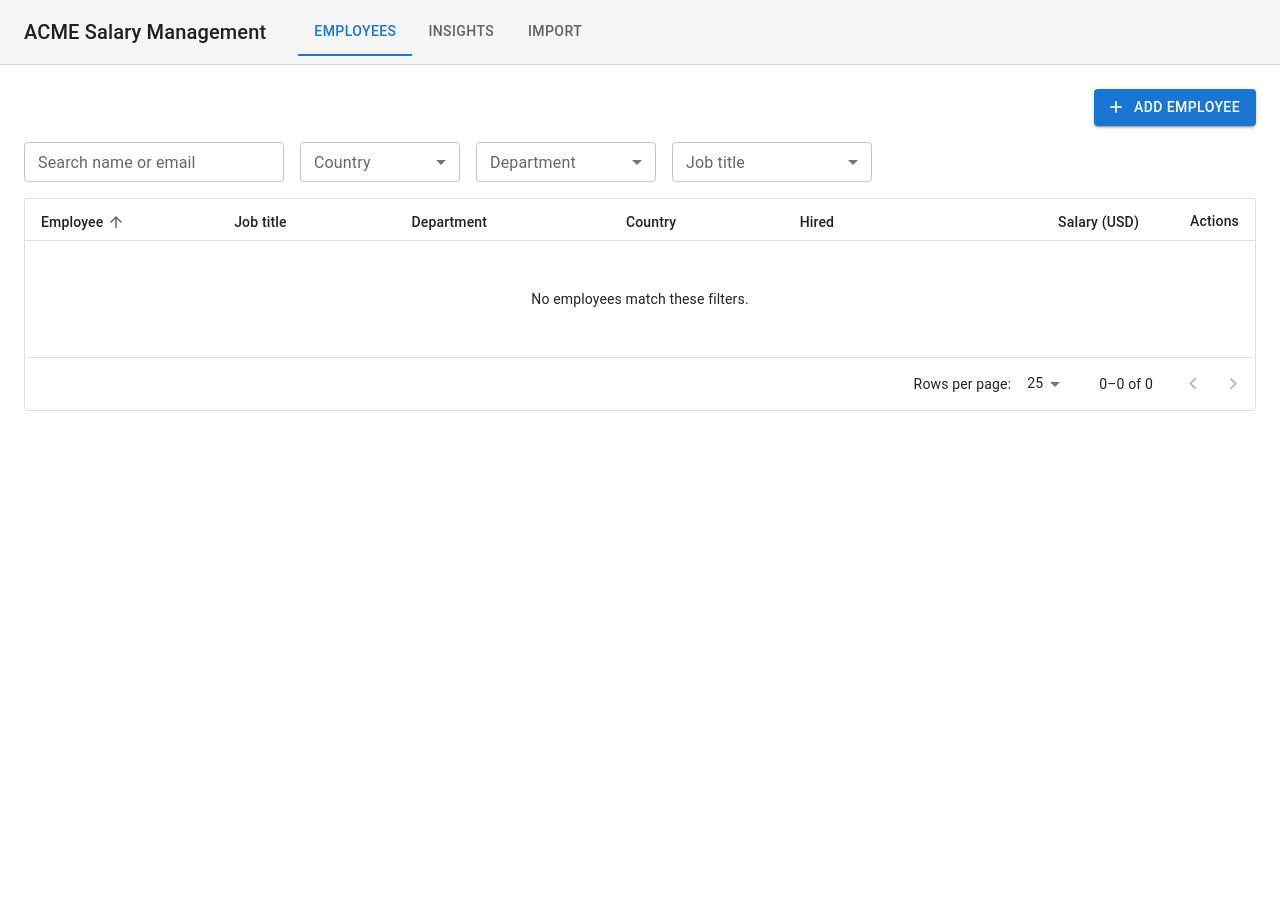
Test: App › navigates to the insights page from the tabs
Click the tab "Insights" at (461, 31), box [428,23,494,39]
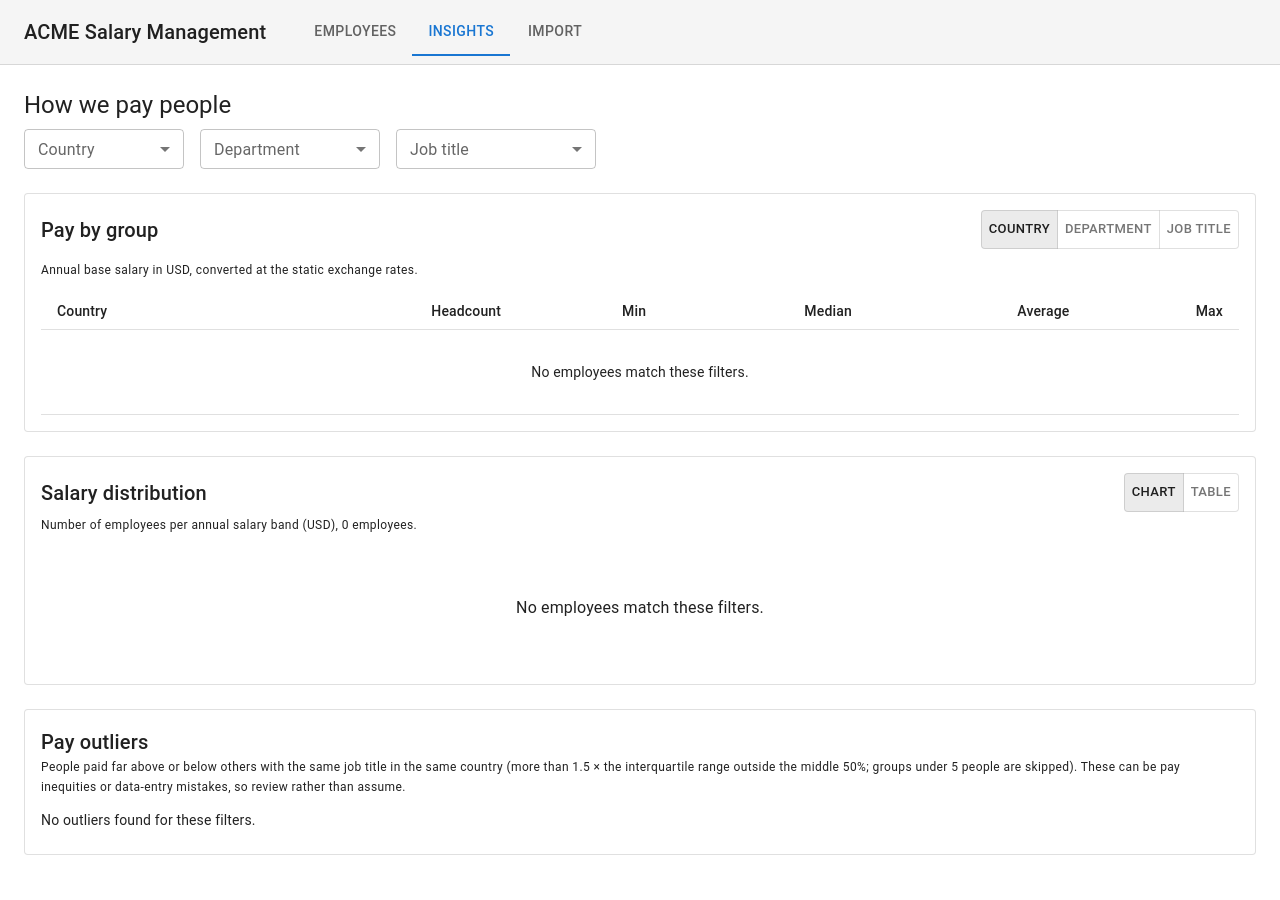
Now the heading "How we pay people" is shown, box [24,91,231,119]
